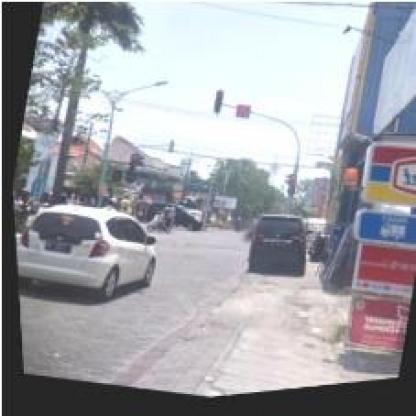red: (210, 92, 223, 117), (281, 178, 294, 202), (124, 156, 136, 178)
